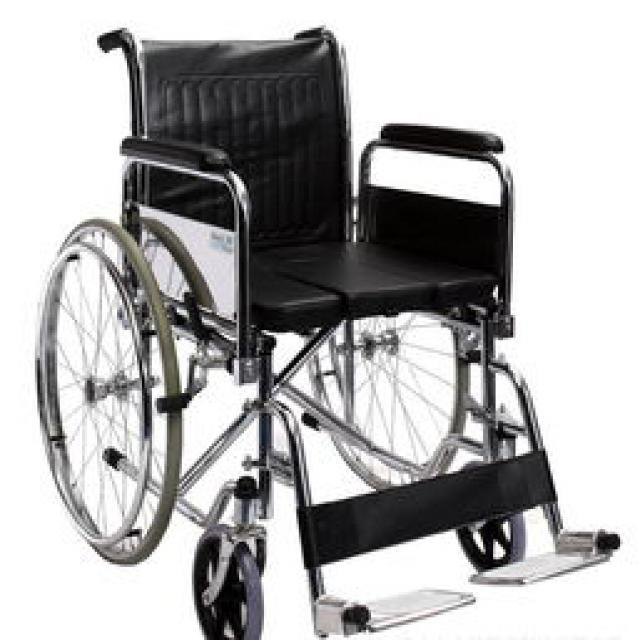wheelchair: (22, 15, 638, 638)
